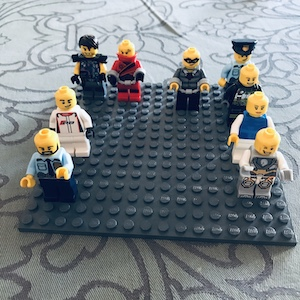Lego: (25, 128, 78, 203), (236, 130, 288, 202), (47, 86, 94, 160), (228, 93, 275, 165), (69, 32, 110, 102), (168, 47, 209, 113), (226, 63, 265, 128), (108, 40, 144, 106), (220, 39, 258, 100)
